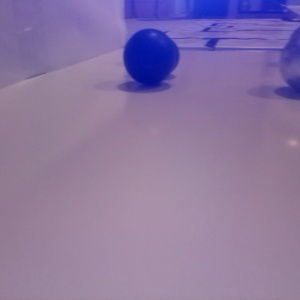alive_ball: (279, 35, 300, 91), (288, 27, 300, 69)
dead_ball: (123, 28, 174, 85), (150, 39, 179, 75)
